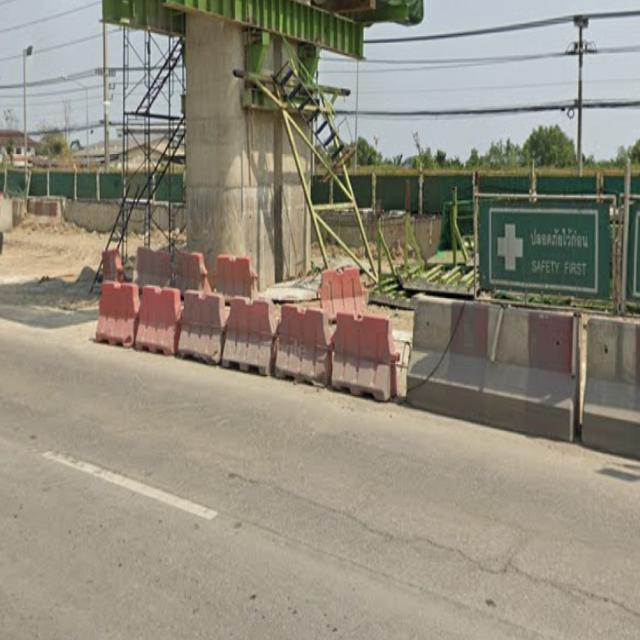fallen_object: (395, 267, 585, 458), (260, 289, 400, 429), (163, 267, 269, 393), (563, 302, 640, 458), (85, 272, 190, 348), (296, 250, 382, 331)
